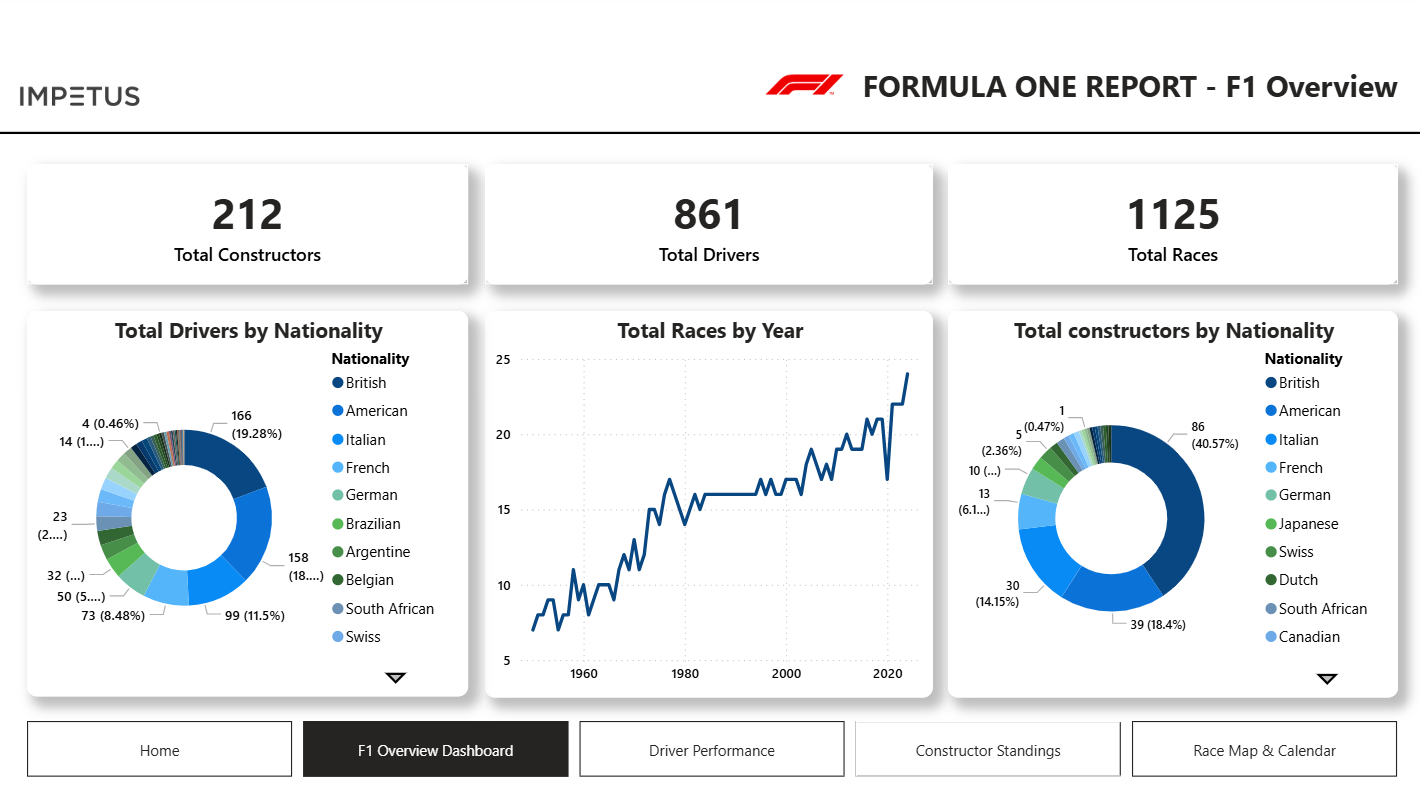

What the dashboard file says about the page in this screenshot:
{"tool":"powerbi","page":{"name":"F1 Overview Dashboard","canvas":[1280,720],"ordinal":1},"visuals":[{"type":"textbox","box":[769.6,57.4,510.8,61],"z":0,"group":"g2"},{"type":"card","fields":{"Values":["circuits.Total Constructors"]},"box":[25.1,152,395.9,107.6],"z":0},{"type":"image","box":[682.9,49.6,79.9,61],"z":1000,"group":"g2"},{"type":"lineChart","fields":{"Y":["circuits.Total Races"],"Category":["races.date.Variation.Date Hierarchy.Year","races.date.Variation.Date Hierarchy.Quarter","races.date.Variation.Date Hierarchy.Month","races.date.Variation.Date Hierarchy.Day"]},"box":[436.3,283.8,402.3,347.4],"z":1000},{"type":"card","fields":{"Values":["circuits.Total Drivers"]},"box":[436.3,151.7,402.3,107.7],"z":2000},{"type":"donutChart","title":"Total Drivers by Nationality","fields":{"Category":["drivers.nationality"],"Y":["circuits.Total Drivers"]},"box":[25.1,284,396.1,346.2],"z":3000},{"type":"card","fields":{"Values":["circuits.Total Races"]},"box":[851.9,151.7,404.1,107.7],"z":4000},{"type":"donutChart","title":"Total constructors by Nationality","fields":{"Category":["constructors.nationality"],"Y":["CountNonNull(constructors.constructorId)"]},"box":[851.9,283.8,404.1,347.4],"z":5000},{"type":"group","id":"g1","title":"Group 1","box":[0,49.6,1280.4,118.2],"z":6000},{"type":"shape","box":[0,80,1280.2,87.8],"z":6000,"group":"g1"},{"type":"group","id":"g2","title":"Group 2","box":[682.9,49.6,597.5,68.9],"z":7000,"group":"g1"},{"type":"pageNavigator","box":[25.1,651.8,1230.8,50.3],"z":7000},{"type":"actionButton","box":[25.1,151.7,395.9,107.7],"z":8000},{"type":"actionButton","box":[436.3,151.7,402.2,107.7],"z":9000},{"type":"actionButton","box":[852,151.7,404,107.7],"z":10000},{"type":"actionButton","box":[769.4,651.8,238.8,50.3],"z":11000},{"type":"image","box":[0,57.5,144.5,67.3],"z":12000},{"type":"actionButton","box":[0,57.5,144.5,67.3],"z":13000}]}

Visuals, with their boxes in screenshot pixels (x1, y1, x2, y2), scaled from the page's 1280x720 canvas onto the 1420x793 screenshot:
textbox: rect(854, 63, 1419, 130)
card - circuits.Total Constructors: rect(28, 167, 467, 286)
image: rect(758, 55, 846, 122)
lineChart - circuits.Total Races x races.date.Variation.Date Hierarchy.Year: rect(484, 313, 930, 695)
card - circuits.Total Drivers: rect(484, 167, 930, 286)
"Total Drivers by Nationality" donutChart: rect(28, 313, 467, 694)
card - circuits.Total Races: rect(945, 167, 1393, 286)
"Total constructors by Nationality" donutChart: rect(945, 313, 1393, 695)
"Group 1" group: rect(0, 55, 1419, 185)
shape: rect(0, 88, 1419, 185)
"Group 2" group: rect(758, 55, 1419, 131)
pageNavigator: rect(28, 718, 1393, 773)
actionButton: rect(28, 167, 467, 286)
actionButton: rect(484, 167, 930, 286)
actionButton: rect(945, 167, 1393, 286)
actionButton: rect(854, 718, 1118, 773)
image: rect(0, 63, 160, 137)
actionButton: rect(0, 63, 160, 137)
